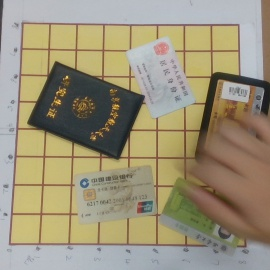card: (158, 175, 246, 254), (123, 36, 197, 119), (73, 165, 159, 223)
